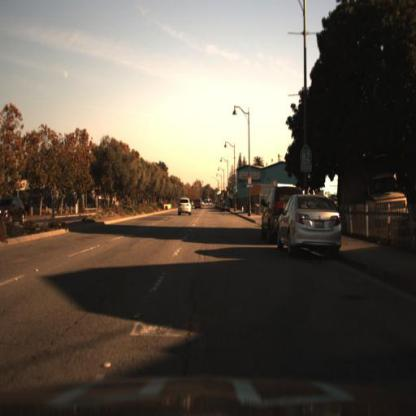car: (277, 193, 341, 257), (260, 187, 305, 249), (262, 185, 280, 245), (175, 191, 194, 217), (191, 193, 205, 212), (222, 200, 231, 213)
truck: (339, 155, 409, 240)
